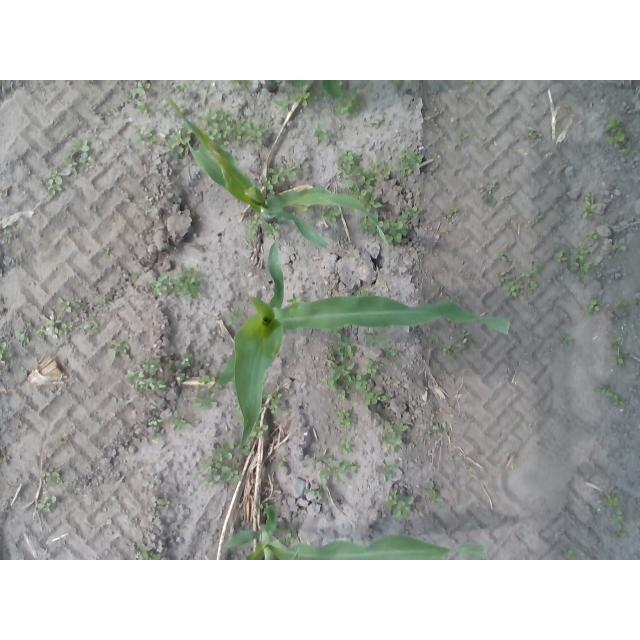Maize: (217, 238, 511, 462), (168, 96, 391, 249), (225, 505, 487, 560), (323, 81, 342, 99), (264, 80, 280, 93), (292, 80, 309, 86)
Weeds: (125, 352, 191, 396), (200, 108, 268, 149), (336, 149, 392, 194), (199, 441, 254, 485), (553, 231, 600, 277), (148, 265, 209, 299), (495, 263, 541, 302), (322, 362, 366, 398), (314, 454, 359, 483), (376, 416, 408, 454), (261, 165, 299, 196), (65, 137, 93, 171), (35, 315, 73, 339), (385, 489, 416, 518), (335, 88, 365, 116), (594, 380, 626, 406), (396, 149, 424, 177), (44, 168, 72, 196), (329, 330, 356, 359), (609, 331, 630, 368), (165, 129, 191, 155), (378, 220, 408, 242), (108, 338, 133, 364), (603, 116, 626, 144), (39, 466, 65, 489), (262, 388, 284, 414), (132, 544, 165, 561), (194, 390, 219, 410), (289, 85, 311, 107), (364, 391, 389, 410), (55, 295, 81, 313), (362, 330, 386, 349), (137, 125, 157, 147), (224, 306, 243, 329), (35, 494, 59, 512), (582, 191, 598, 217), (379, 460, 399, 480), (243, 214, 261, 235), (337, 409, 356, 428), (313, 123, 331, 143), (358, 195, 382, 210), (482, 185, 498, 207), (169, 415, 192, 430), (321, 207, 343, 222), (82, 311, 99, 329), (401, 205, 421, 220), (611, 509, 625, 530), (275, 529, 293, 545), (263, 221, 281, 237), (441, 344, 460, 359), (134, 80, 151, 96), (422, 480, 438, 497), (361, 215, 376, 233), (0, 339, 12, 361), (197, 374, 219, 386), (253, 422, 269, 438), (136, 100, 153, 115), (364, 358, 381, 373), (275, 95, 290, 112), (305, 486, 323, 500), (155, 492, 170, 507), (529, 210, 543, 226), (16, 330, 30, 346), (338, 438, 351, 454), (585, 299, 599, 313), (621, 144, 636, 157), (460, 328, 473, 343), (604, 493, 617, 508), (101, 246, 115, 259), (561, 547, 574, 560), (561, 332, 575, 344), (496, 250, 509, 262), (356, 289, 375, 297), (433, 421, 448, 431), (528, 127, 540, 139), (175, 82, 187, 94), (446, 207, 459, 218), (97, 294, 108, 306), (148, 417, 161, 427), (287, 294, 301, 303), (129, 271, 140, 282), (613, 298, 627, 306), (457, 131, 468, 141), (611, 241, 621, 252), (423, 429, 434, 439), (4, 232, 13, 244), (228, 80, 246, 86), (384, 348, 395, 357), (278, 457, 286, 467), (627, 323, 638, 329), (85, 80, 96, 86), (260, 502, 268, 509), (391, 80, 401, 84), (634, 298, 639, 306), (431, 414, 435, 419), (464, 80, 472, 82)
